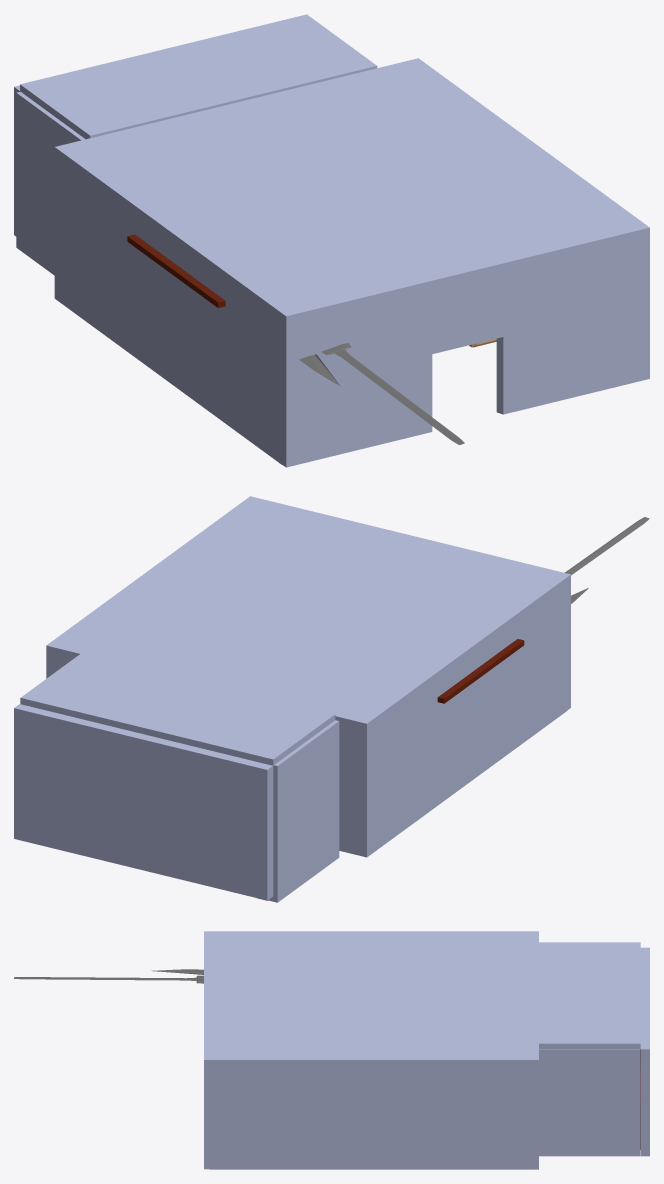
Rendered from Nivell_3.fbx.
3 renders of one model, top to bottom at view 1: azimuth 30°, elevation 25°; view 2: azimuth 150°, elevation 25°; view 3: azimuth 270°, elevation 25°, orthographic. The views are drawn at different scales.
Parts seen in each view (by area): view 1: pared.003, techo_bar, pared.002, lampara_escenari.001, escenari; view 2: pared.003, pared.001, techo_bar, pared.002, escenari, lampara_escenari.001; view 3: pared.003, techo_bar, pared, pared.001, lampara_escenari.001.
Boxes of the visible parts, <box> form: pared.003: <box>54,58,649,467</box>; techo_bar: <box>20,14,377,139</box>; pared.002: <box>16,91,85,275</box>; lampara_escenari.001: <box>299,343,464,444</box>; escenari: <box>127,234,225,307</box>; pared.003: <box>46,496,570,857</box>; pared.001: <box>14,704,273,900</box>; techo_bar: <box>20,652,335,766</box>; pared.002: <box>268,720,339,902</box>; escenari: <box>437,639,524,703</box>; lampara_escenari.001: <box>564,517,649,603</box>; pared.003: <box>204,931,538,1169</box>; techo_bar: <box>539,942,640,1048</box>; pared: <box>539,1049,639,1156</box>; pared.001: <box>640,947,649,1156</box>; lampara_escenari.001: <box>14,969,203,983</box>.
Bounding box in the file's own units: 1161 × 484 × 2380.
